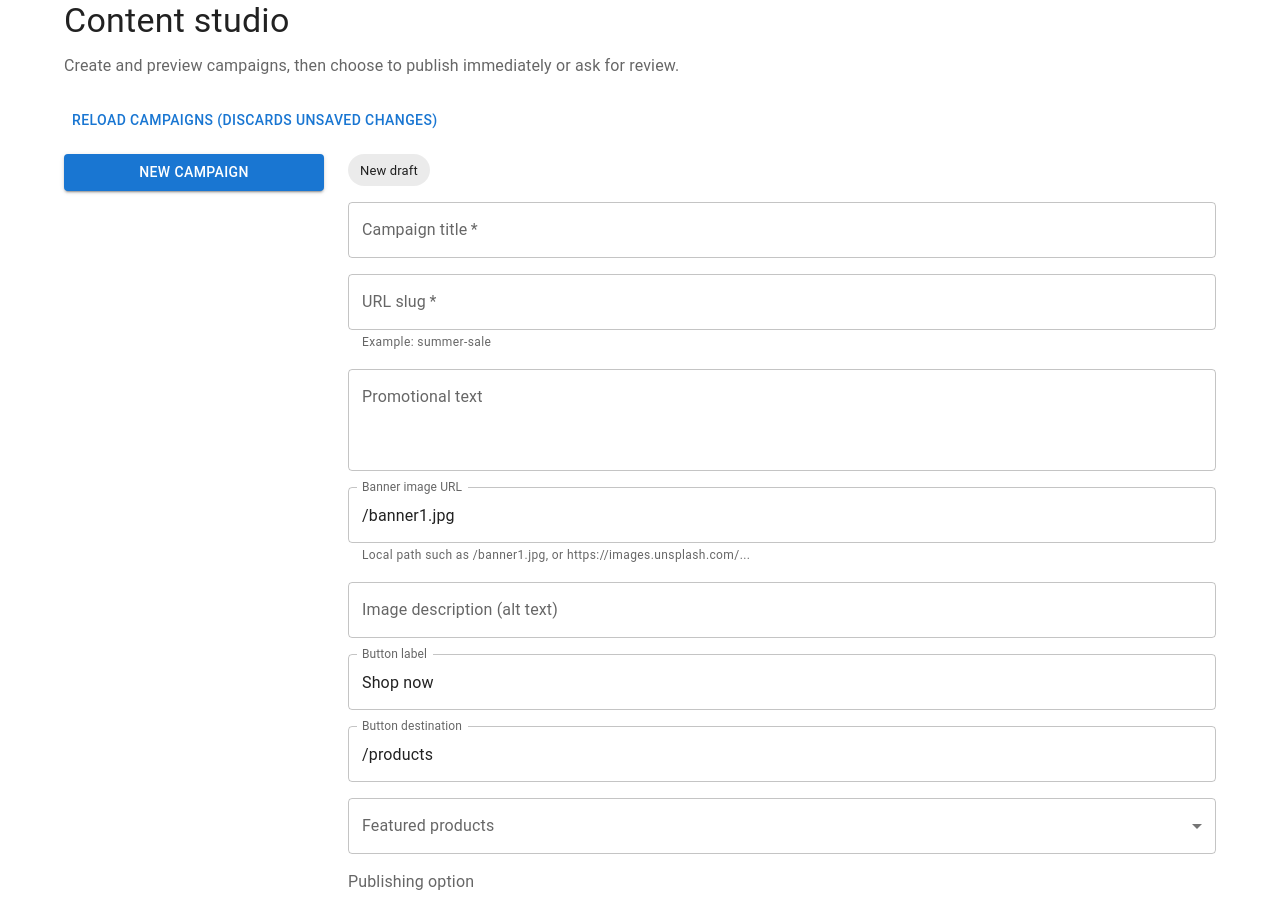
it: shows editor-only users that direct publishing requires administrator access
The width and height of the screenshot is (1280, 900).
In the field labelled "Campaign title *": (782, 230) [348,202,1216,258], type "Sale"
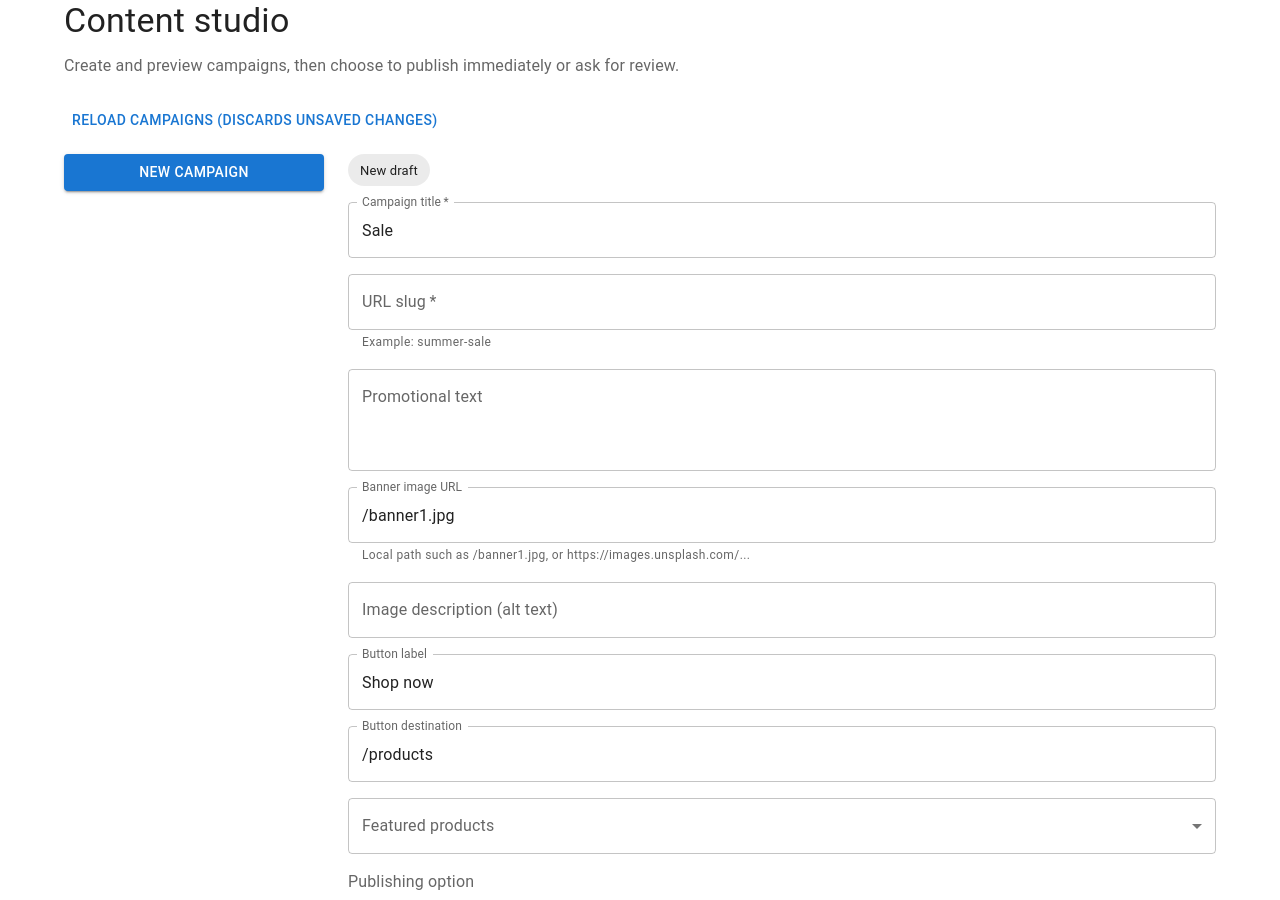
In the field labelled "URL slug *": (782, 302) [348,274,1216,330], type "sale"
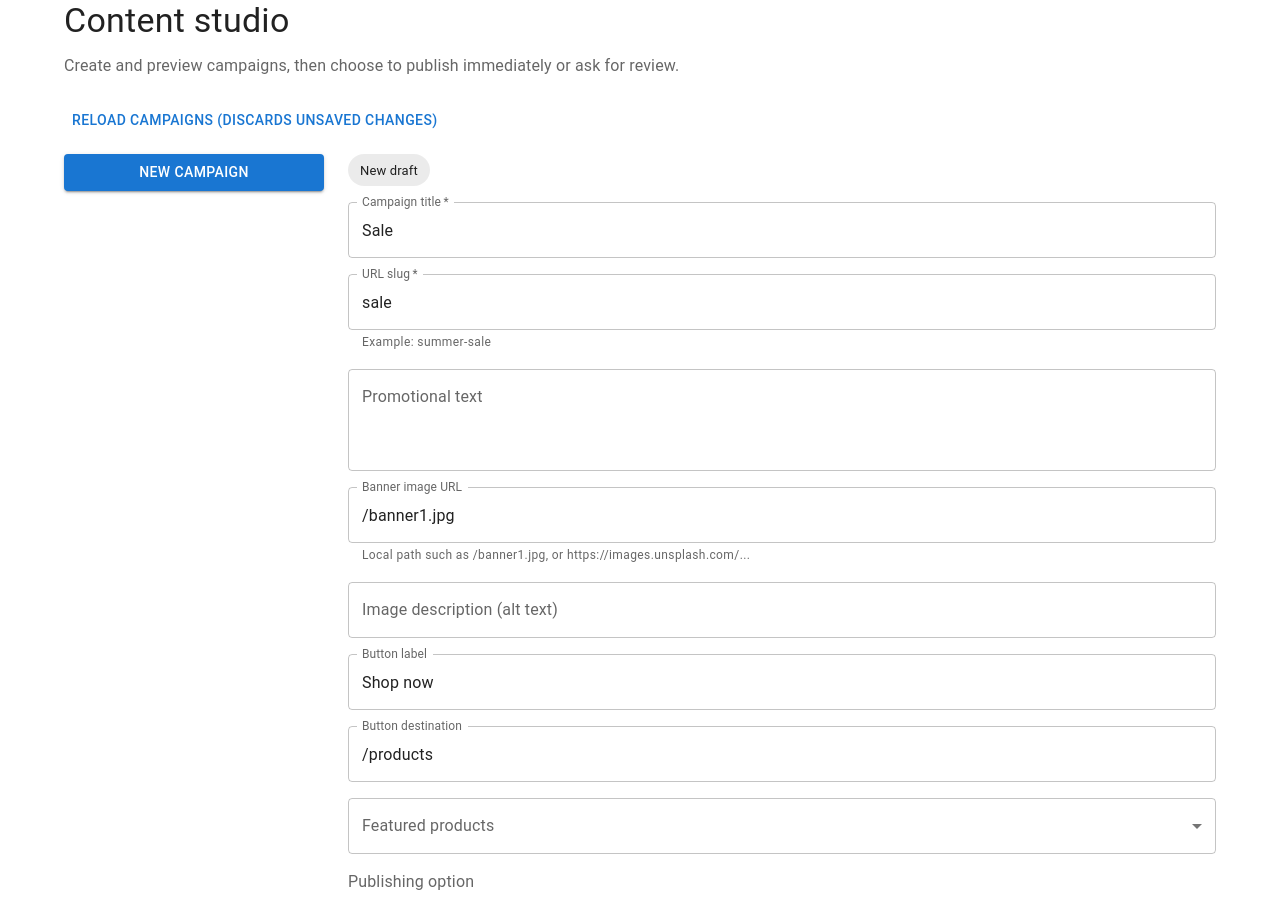
In the text box labelled "Promotional text": (782, 420) [362,386,1202,455], type "Fresh fruit offers"
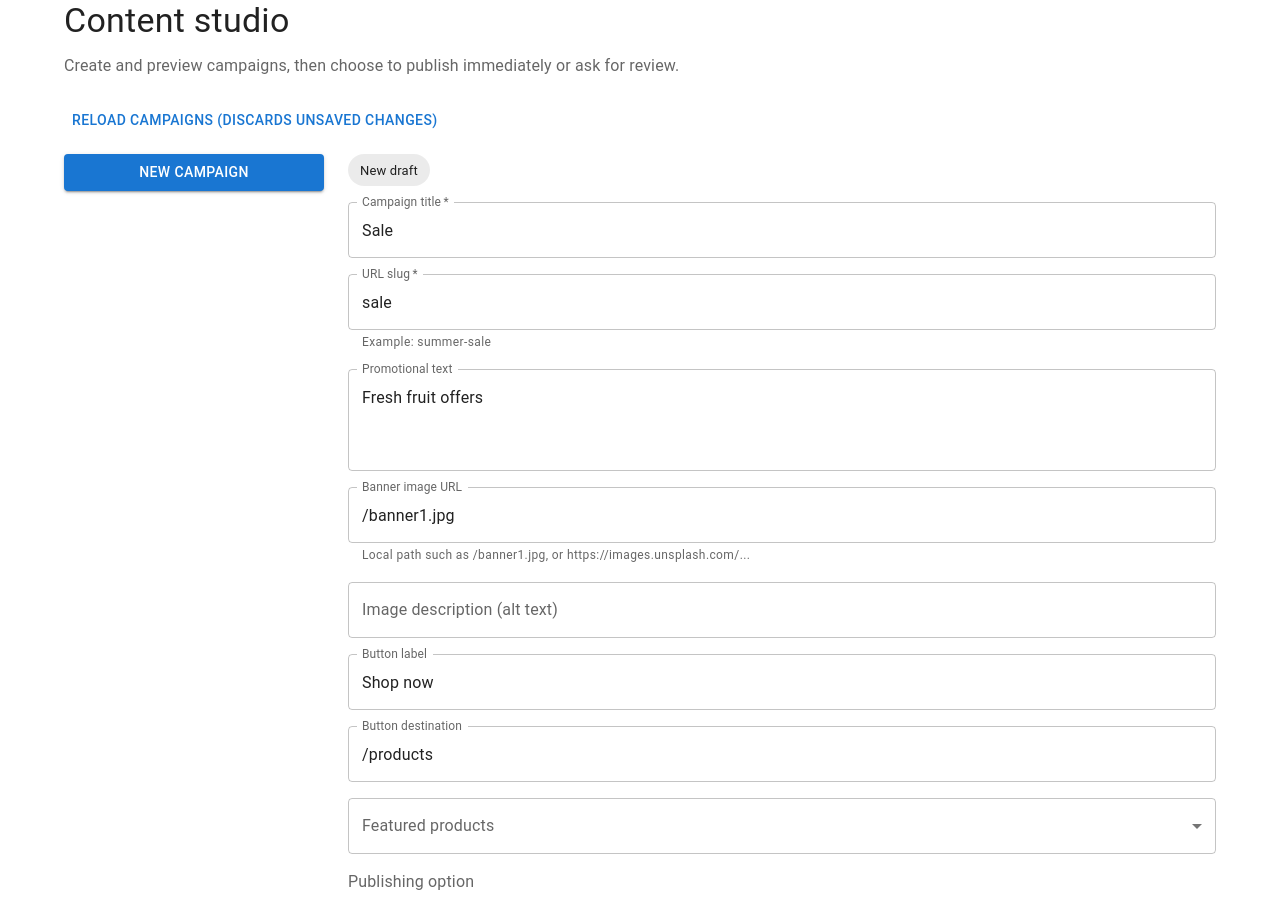
In the field labelled "Image description (alt text)": (782, 610) [348,582,1216,638], type "Fresh fruit"
(page scrolled)
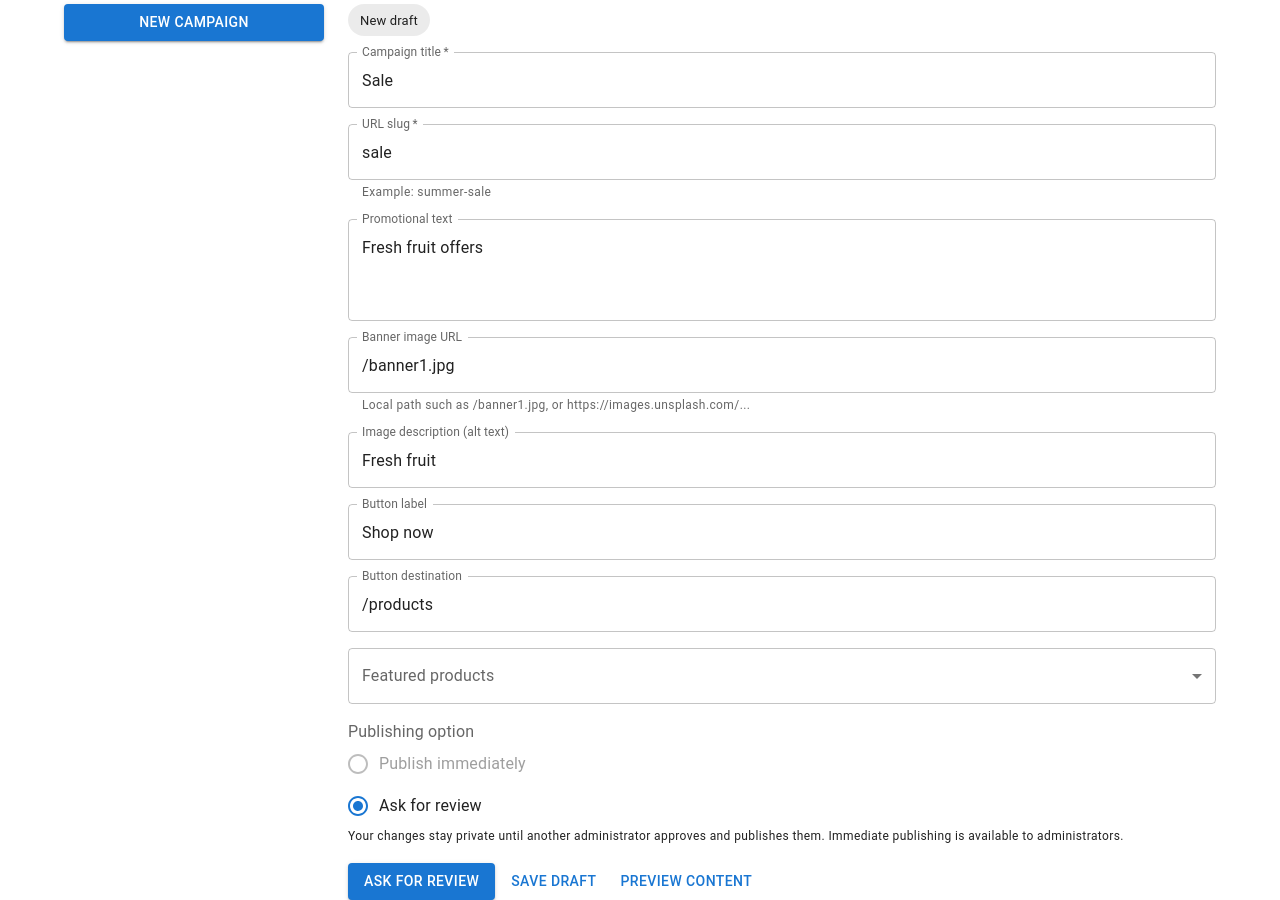
Expected: the radio button labelled "Publish immediately" is disabled, [346,752,526,776]
Expected: the radio button labelled "Ask for review" is checked, [346,794,482,818]
Click the button "Ask for review": (422, 881) [348,863,495,899]
(page scrolled)
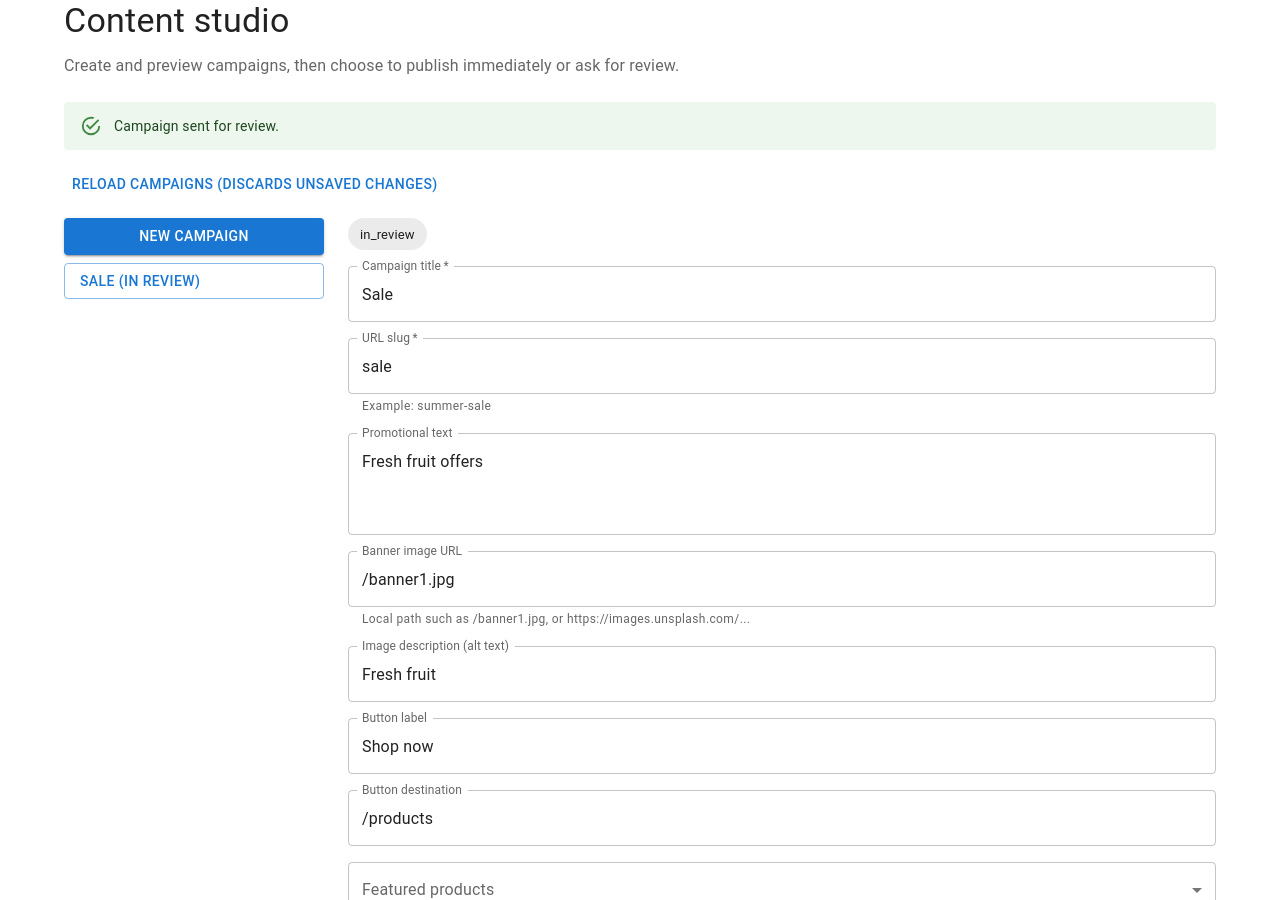
Now the text "Campaign sent for review." is shown, box [114,118,279,134]
